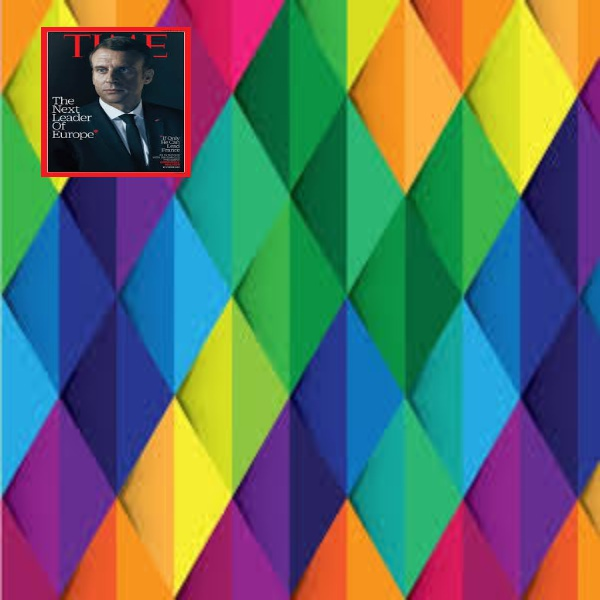time_cover: (44, 29, 190, 183)
